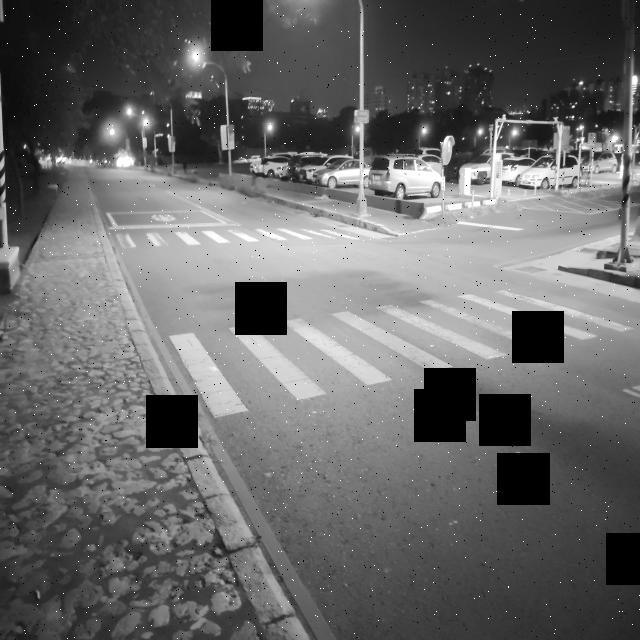zebra crossing: (167, 286, 631, 414), (120, 226, 358, 248)
